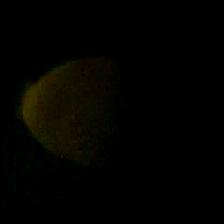fertile: (18, 52, 170, 168)
